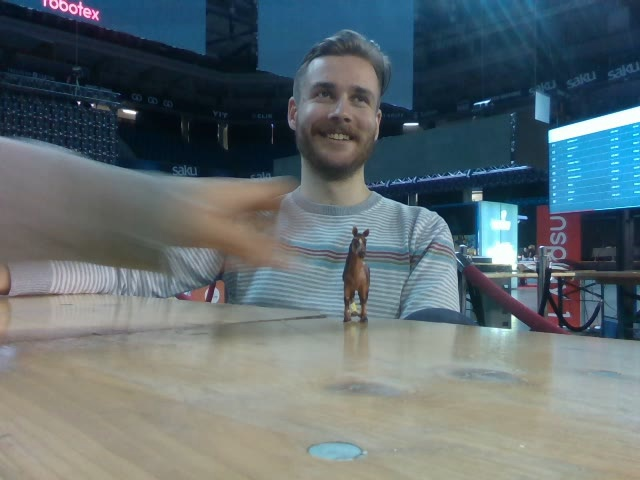toy: (339, 223, 377, 329)
